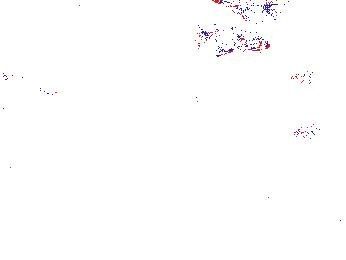red belly glassfish: (289, 68, 339, 87), (293, 125, 332, 143)
redtail glassfish: (195, 24, 271, 54), (210, 1, 279, 20)
